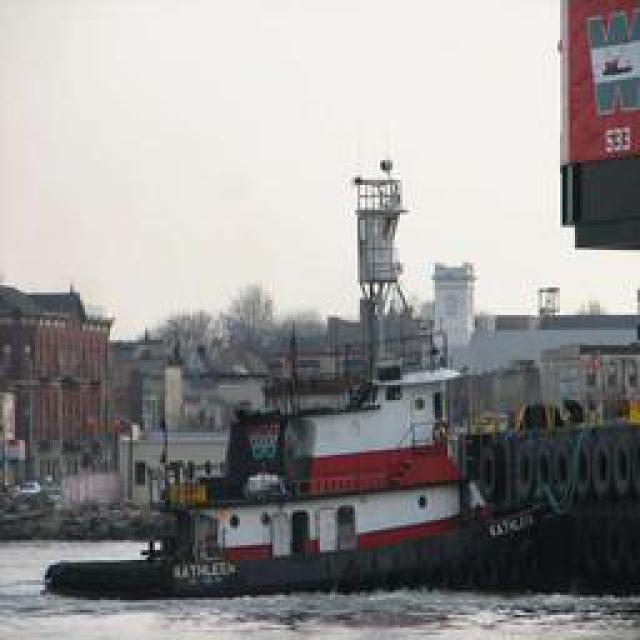Ship: (42, 345, 569, 604)
